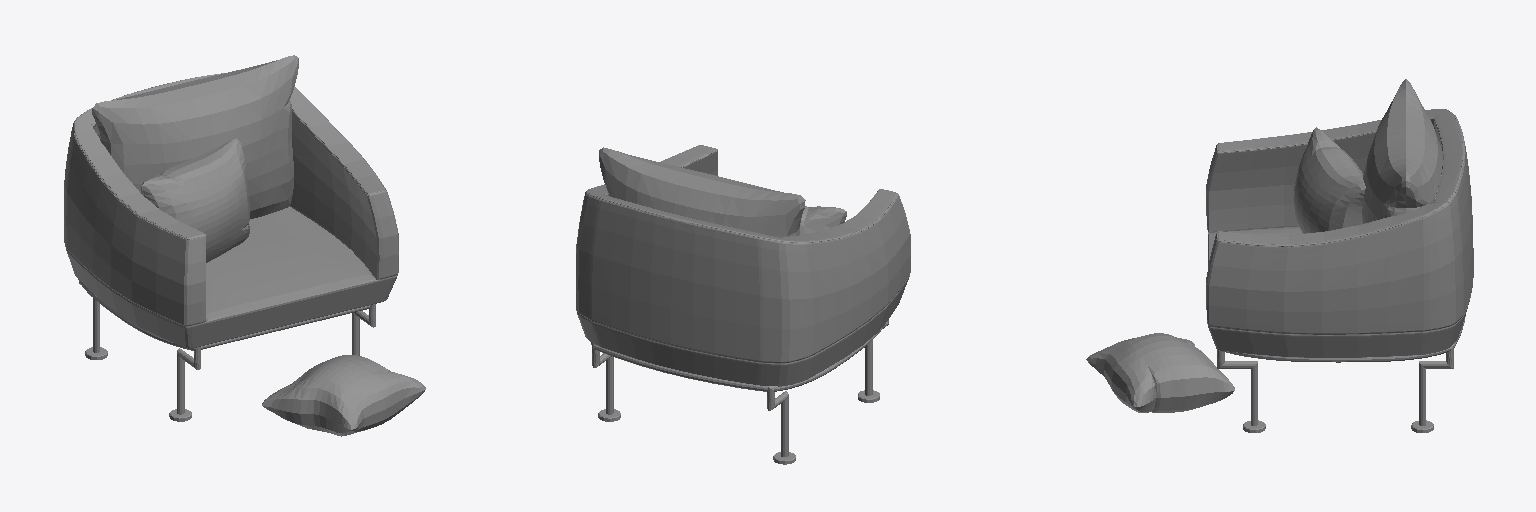
File: Armchair_06_obj.obj
3 renders of one model, left to right at view 1: azimuth 30°, elevation 25°; view 2: azimuth 150°, elevation 25°; view 3: azimuth 270°, elevation 25°, orthographic.
Visible parts, largest first — view 1: Arch_Object_02, Arch_Object_03, Arch_Object_11, Arch_Object_10, Arch_Object_04, Arch_Object_07, Arch_Object_05; view 2: Arch_Object_02, Arch_Object_03, Arch_Object_04, Arch_Object_10, Arch_Object_09, Arch_Object_05; view 3: Arch_Object_02, Arch_Object_11, Arch_Object_03, Arch_Object_10, Arch_Object_05.
Boxes of the visible parts, box(x1,y1,x2,y2) form: Arch_Object_02: box(64, 73, 398, 348); Arch_Object_03: box(92, 55, 298, 218); Arch_Object_11: box(262, 355, 425, 436); Arch_Object_10: box(141, 138, 249, 262); Arch_Object_04: box(78, 279, 200, 421); Arch_Object_07: box(201, 305, 369, 349); Arch_Object_05: box(352, 304, 375, 355); Arch_Object_02: box(576, 145, 910, 386); Arch_Object_03: box(599, 147, 805, 237); Arch_Object_04: box(767, 320, 888, 464); Arch_Object_10: box(800, 206, 846, 234); Arch_Object_09: box(594, 345, 767, 391); Arch_Object_05: box(590, 341, 620, 421); Arch_Object_02: box(1206, 109, 1473, 357); Arch_Object_11: box(1086, 333, 1234, 412); Arch_Object_03: box(1362, 79, 1442, 223); Arch_Object_10: box(1294, 127, 1365, 233); Arch_Object_05: box(1217, 344, 1453, 432).
Bounding box in the file's own units: 37.44 × 37.41 × 50.49.